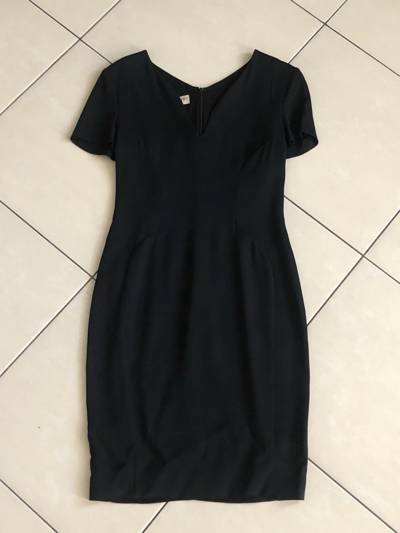Dress: (64, 40, 365, 510)
